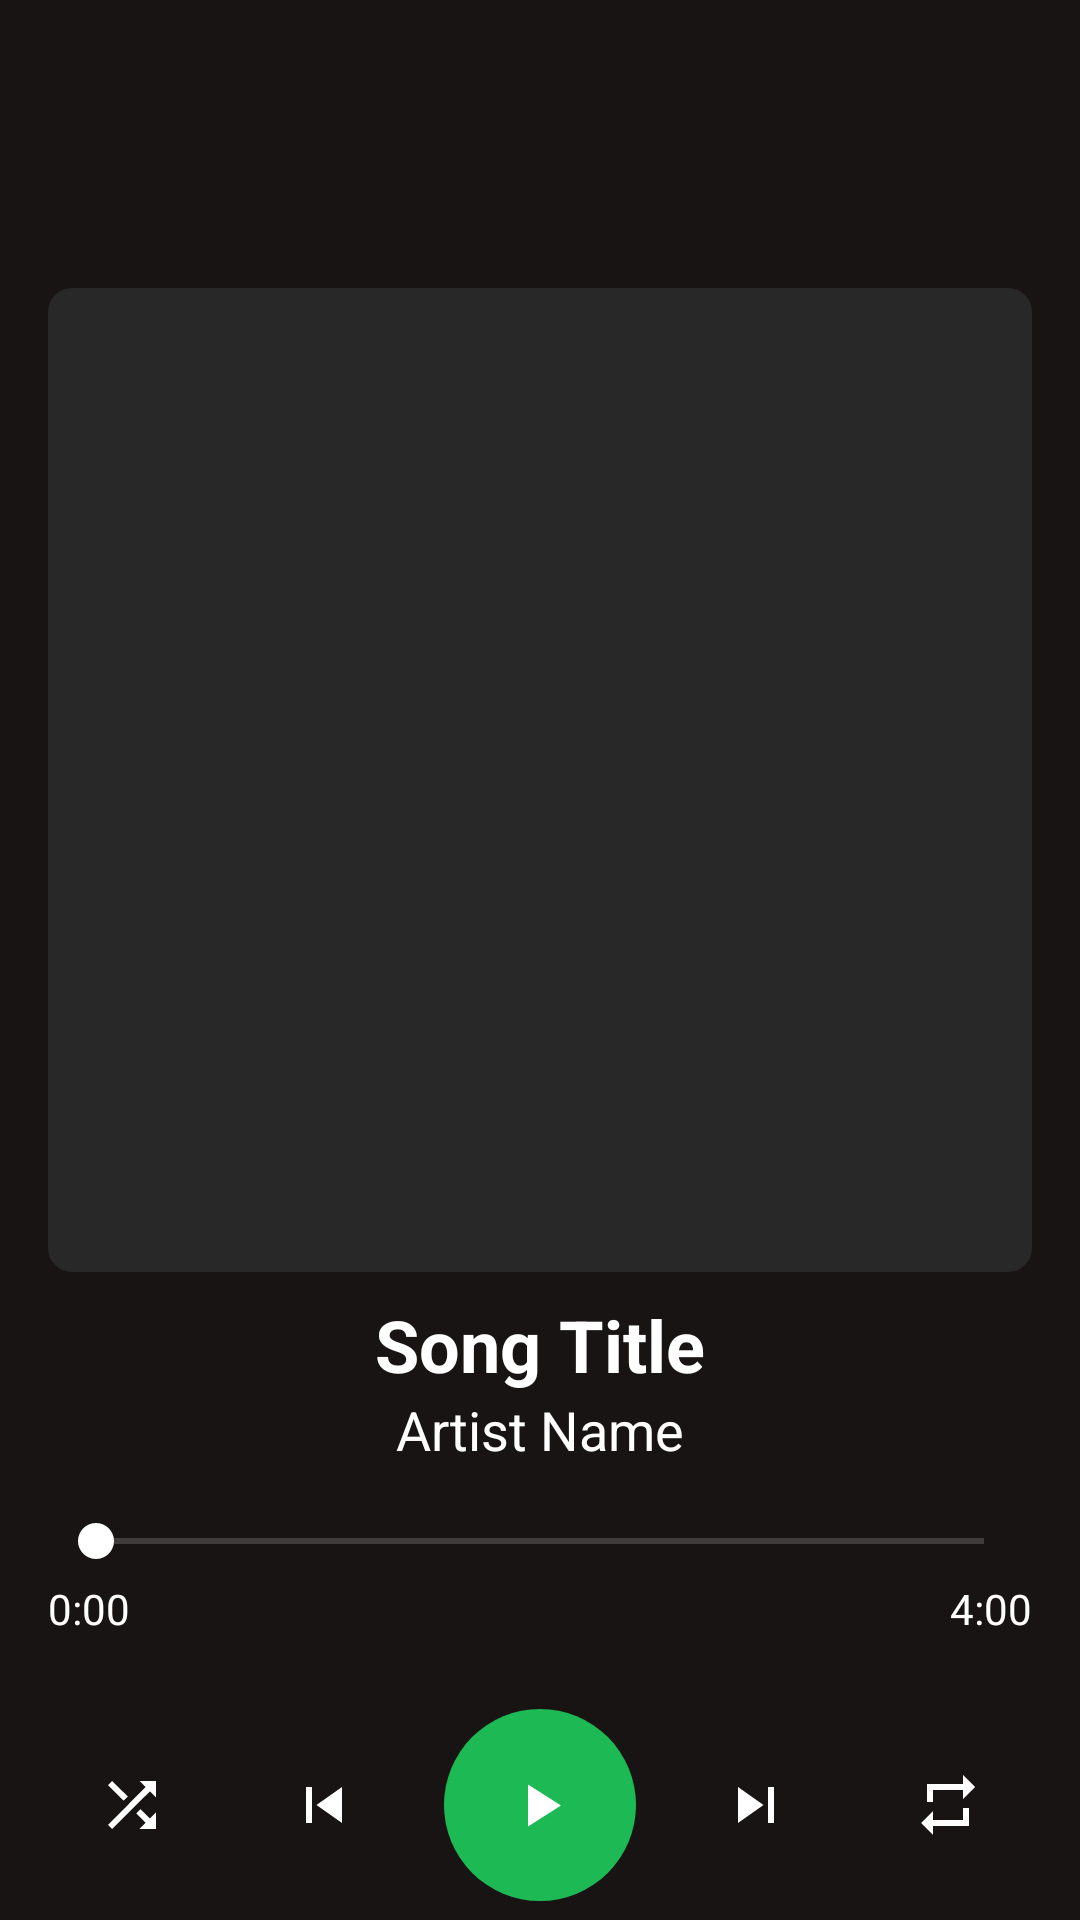

Where icons sit on this 1080x1920 app screen, as (x1, y1, x2, y2):
next: (738, 1787, 774, 1823)
play: (444, 1709, 636, 1901)
previous: (306, 1787, 342, 1823)
repeat: (921, 1775, 975, 1835)
shuffle: (108, 1781, 156, 1829)
